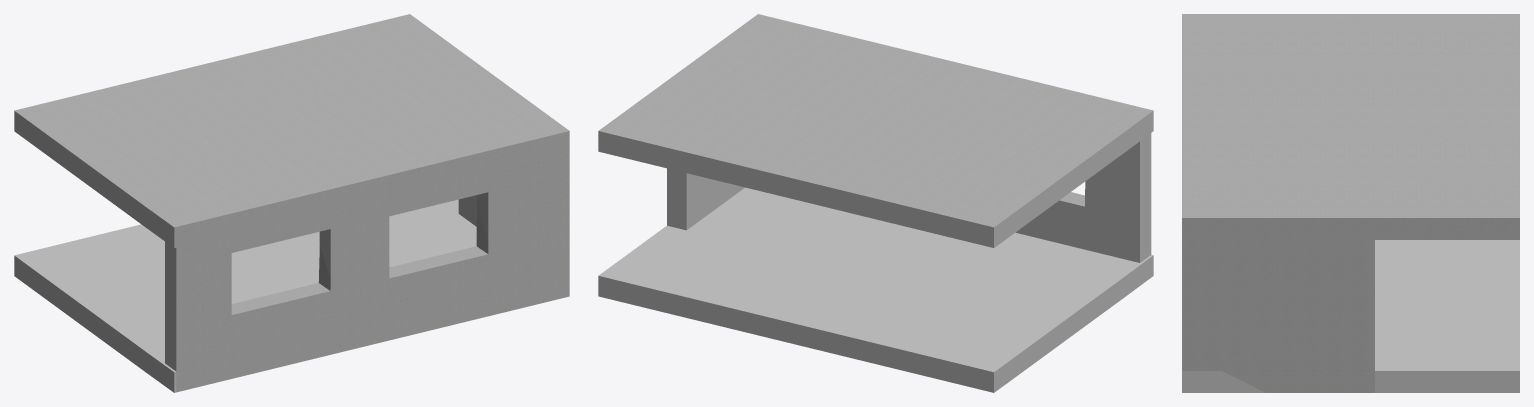
The model's file is Den Structure.fbx.
3 views of the same model, side by side, from view 1: azimuth 30°, elevation 25°; view 2: azimuth 150°, elevation 25°; view 3: azimuth 270°, elevation 25° (orthographic). The views are drawn at different scales.
Visible parts, largest first — view 1: mtr_wall_2 Mesh (1), normalfloor-1 Mesh (1), Wall Mesh (1); view 2: mtr_wall_2 Mesh (1), normalfloor-1 Mesh (1), Wall Mesh (1), normalwall-1 Mesh (1); view 3: mtr_wall_2 Mesh (1), normalfloor-1 Mesh (1), Wall Mesh (1).
Part boxes in pixels (x1,y1,x2,y2): mtr_wall_2 Mesh (1): [14, 14, 569, 392]; normalfloor-1 Mesh (1): [14, 199, 476, 372]; Wall Mesh (1): [14, 111, 176, 392]; mtr_wall_2 Mesh (1): [599, 14, 1153, 227]; normalfloor-1 Mesh (1): [598, 187, 1152, 372]; Wall Mesh (1): [598, 110, 1153, 392]; normalwall-1 Mesh (1): [686, 141, 1139, 262]; mtr_wall_2 Mesh (1): [1182, 14, 1519, 392]; normalfloor-1 Mesh (1): [1375, 240, 1519, 370]; Wall Mesh (1): [1182, 371, 1519, 392].
Size of what is drawn, in the model's own units: 20.01 by 8 by 14.
